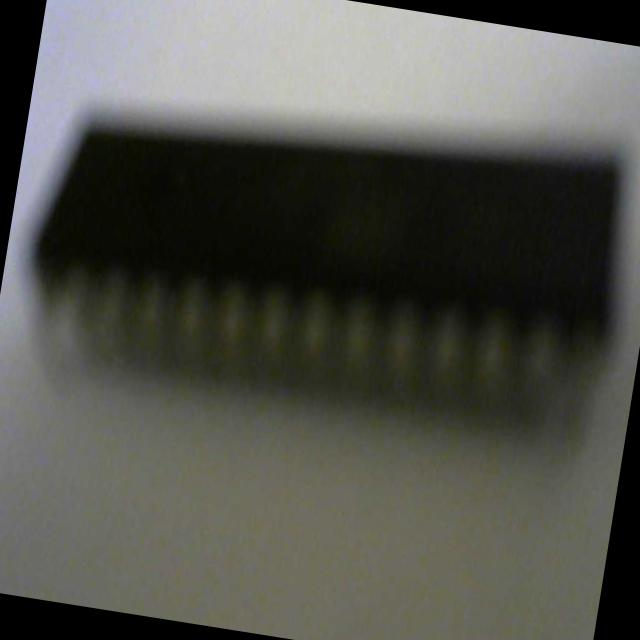atmega: (10, 61, 640, 461)
